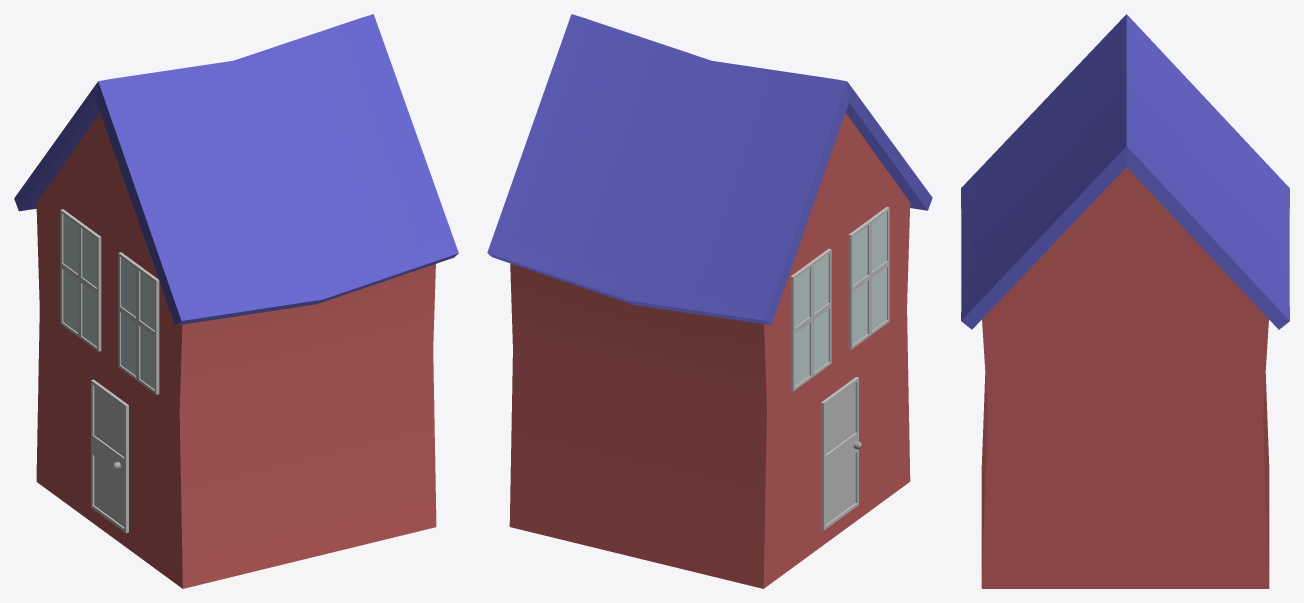
The model's file is SM_House_01.fbx.
The picture shows the model from 3 angles, left to right: view 1: azimuth 30°, elevation 25°; view 2: azimuth 150°, elevation 25°; view 3: azimuth 270°, elevation 25°; orthographic projection.
Visible parts, largest first — view 1: SM_House_01; view 2: SM_House_01; view 3: SM_House_01.
Part boxes in pixels (box(x1,y1,x2,y2)): SM_House_01: box(14, 14, 458, 588); SM_House_01: box(487, 14, 932, 588); SM_House_01: box(961, 14, 1289, 588).
Bounding box in the file's own units: 1100 × 1720 × 1144.
